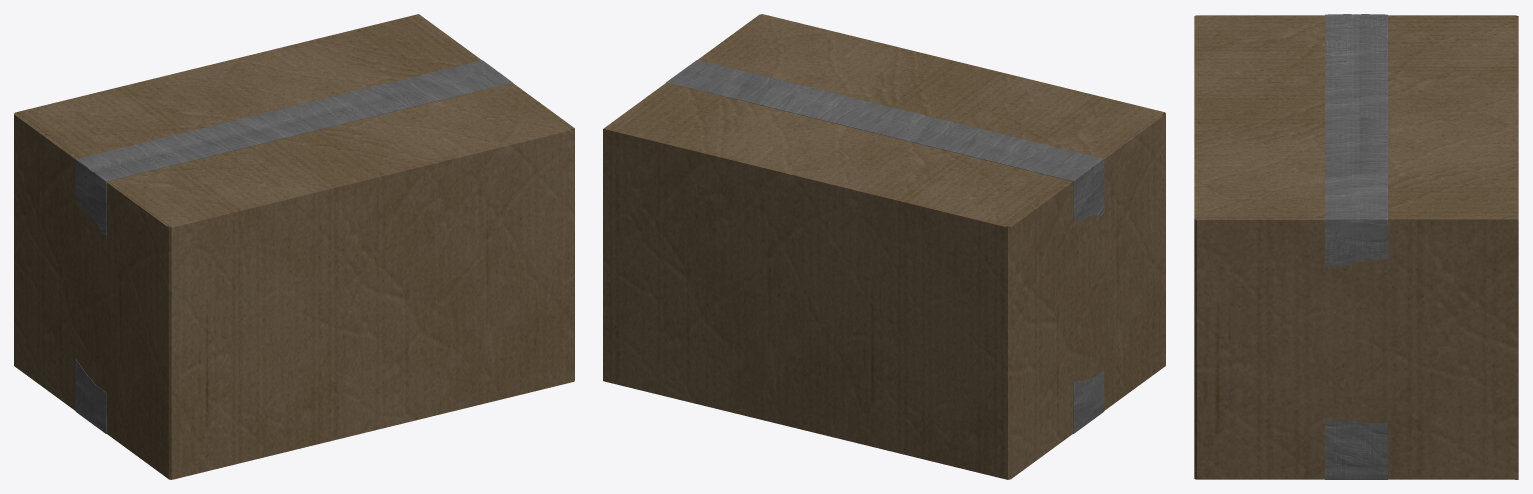
File: FurnitureCrate.fbx
The picture shows the model from 3 angles, left to right: view 1: azimuth 30°, elevation 25°; view 2: azimuth 150°, elevation 25°; view 3: azimuth 270°, elevation 25°; orthographic projection. The views are drawn at different scales.
Parts seen in each view (by area): view 1: Cardboard Box SQ01.001; view 2: Cardboard Box SQ01.001; view 3: Cardboard Box SQ01.001.
Part boxes in pixels (bbox=[...]): Cardboard Box SQ01.001: bbox=[14, 14, 574, 479]; Cardboard Box SQ01.001: bbox=[603, 14, 1165, 479]; Cardboard Box SQ01.001: bbox=[1194, 14, 1518, 479].
Size of the model in its own units: 267 by 159 by 179.
